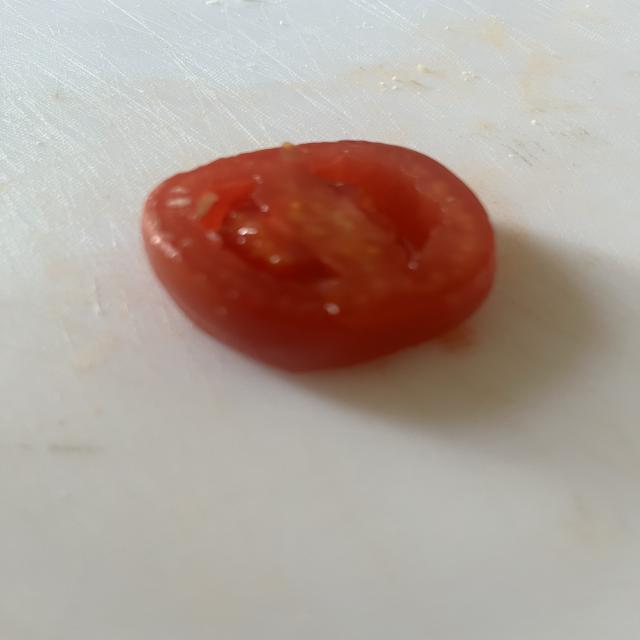sliced_tomato: (143, 141, 494, 370)
